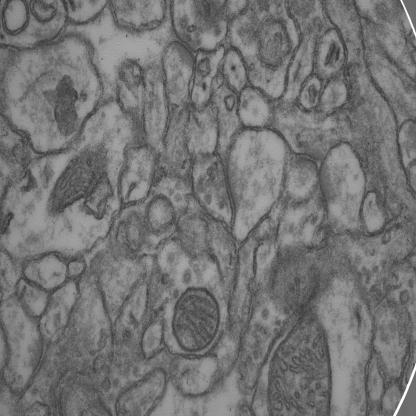mitochondria: (265, 308, 335, 416), (47, 148, 106, 216), (172, 285, 221, 354)
